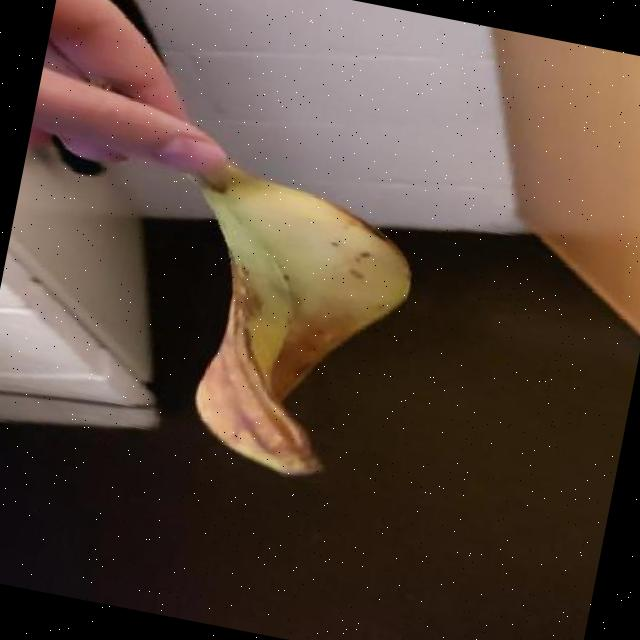banana-peel: (135, 149, 430, 493)
